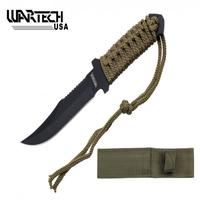knife: (19, 9, 160, 147)
